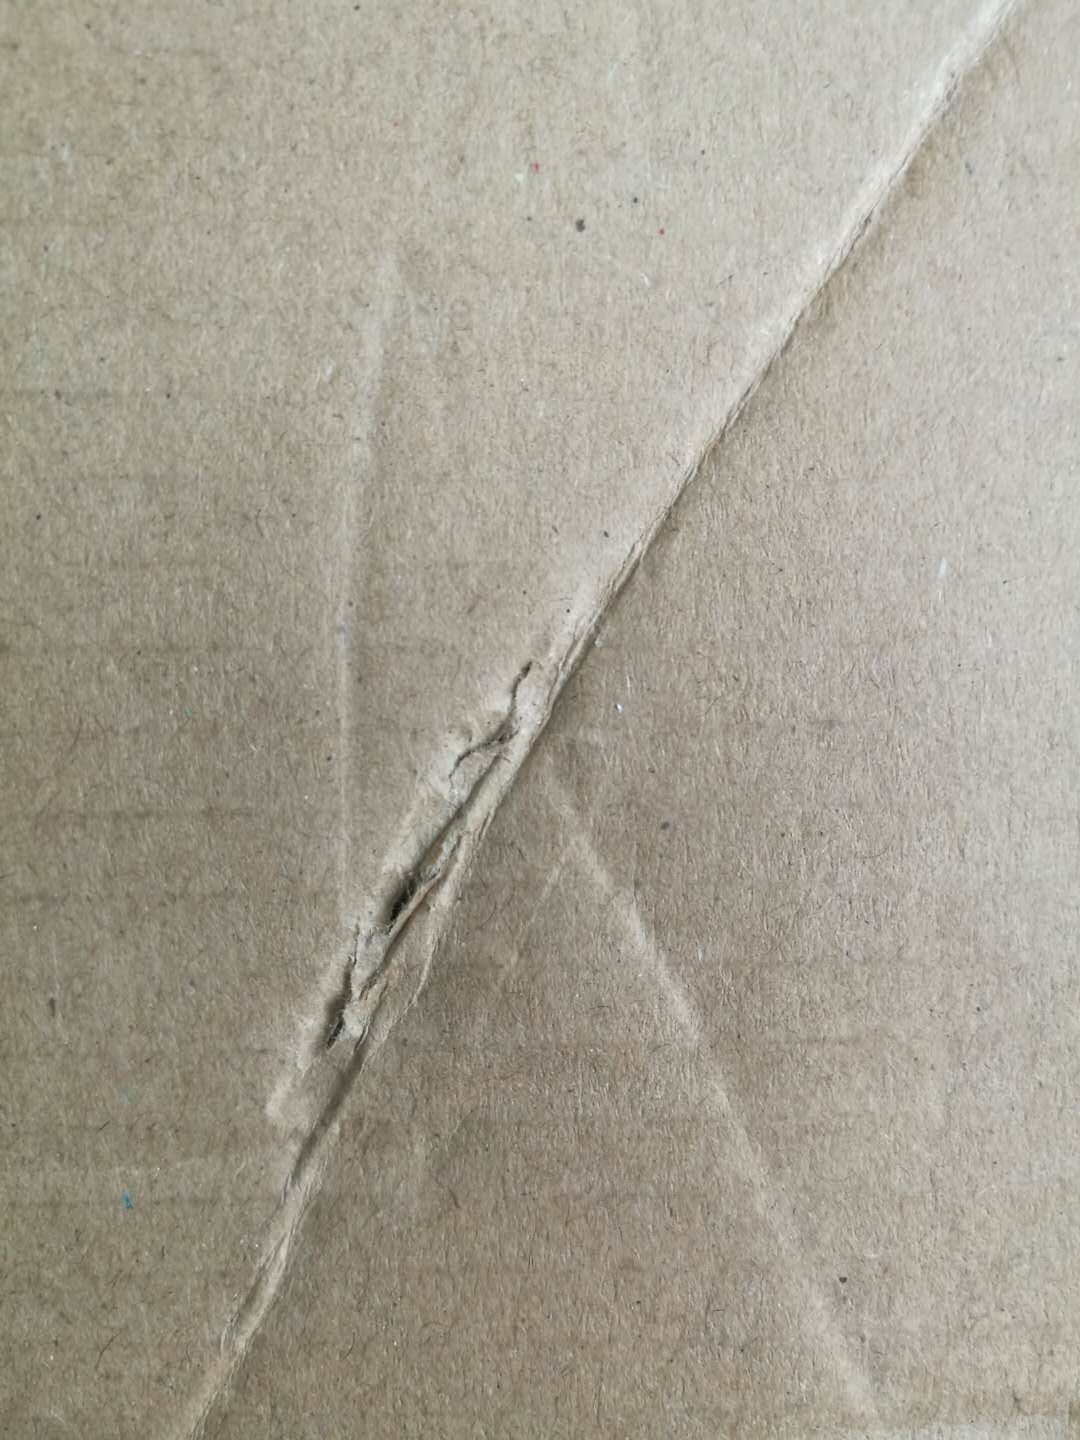defect: (135, 5, 1080, 1439)
